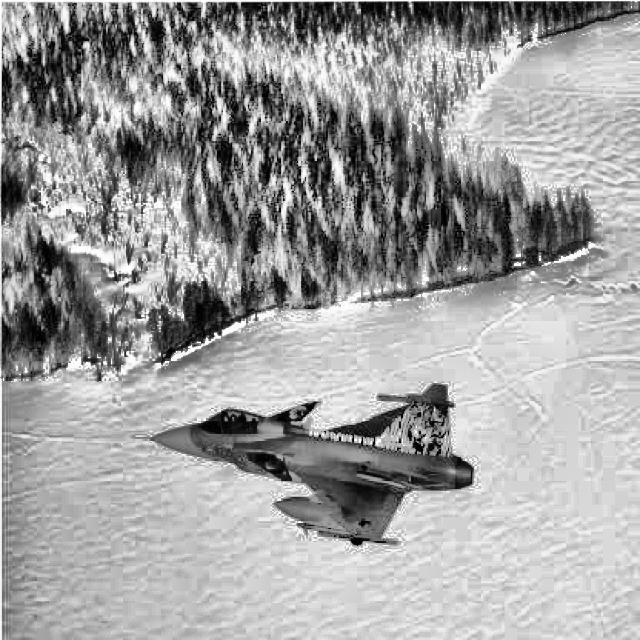JAS39: (133, 383, 475, 548)
